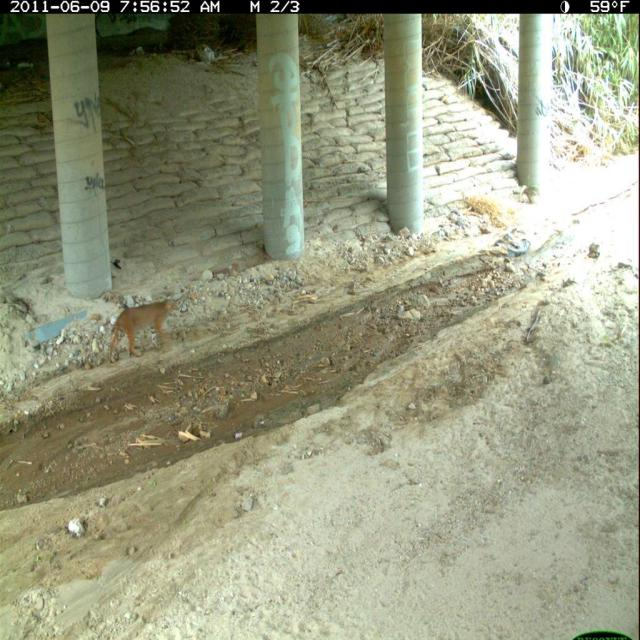bobcat: (106, 291, 178, 372)
